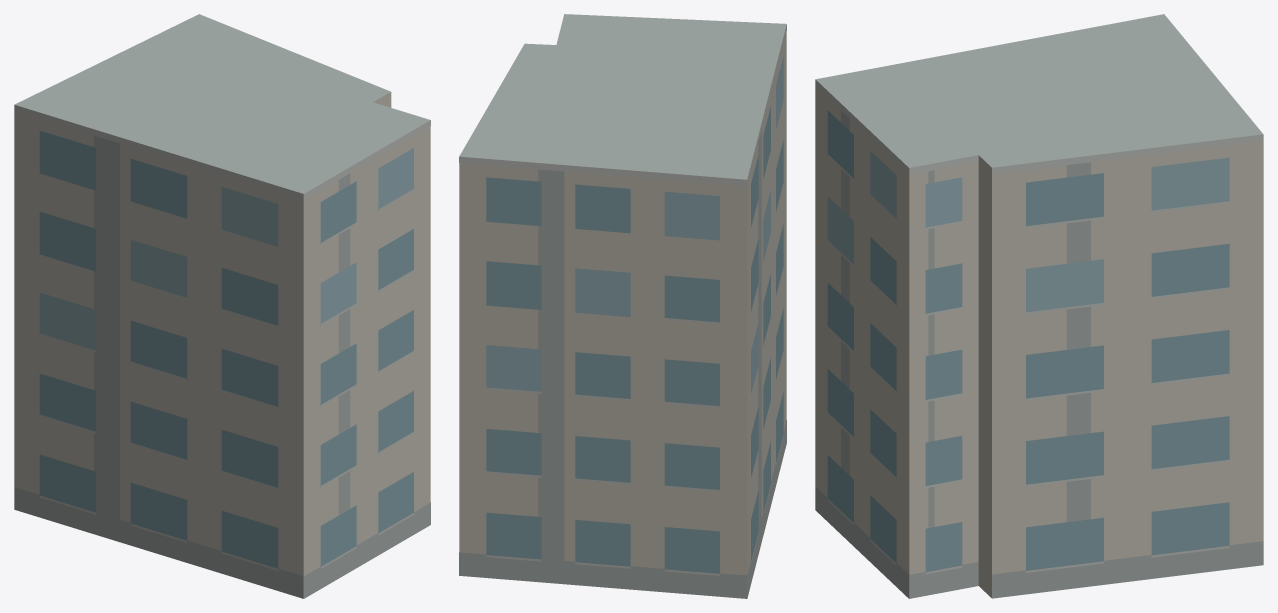
Rendered from survey-upis-32589455.glb.
The picture shows the model from 3 angles, left to right: view 1: azimuth 30°, elevation 25°; view 2: azimuth 150°, elevation 25°; view 3: azimuth 270°, elevation 25°; orthographic projection. The views are drawn at different scales.
Visible parts, largest first — view 1: survey-upis-32589455.tmp; view 2: survey-upis-32589455.tmp; view 3: survey-upis-32589455.tmp.
Part boxes in pixels (left/top/right/bottom): survey-upis-32589455.tmp: left=14, top=14, right=430, bottom=598; survey-upis-32589455.tmp: left=459, top=14, right=786, bottom=598; survey-upis-32589455.tmp: left=815, top=14, right=1263, bottom=598.
Size of the model in its own units: 12.05 by 15.7 by 14.81.
